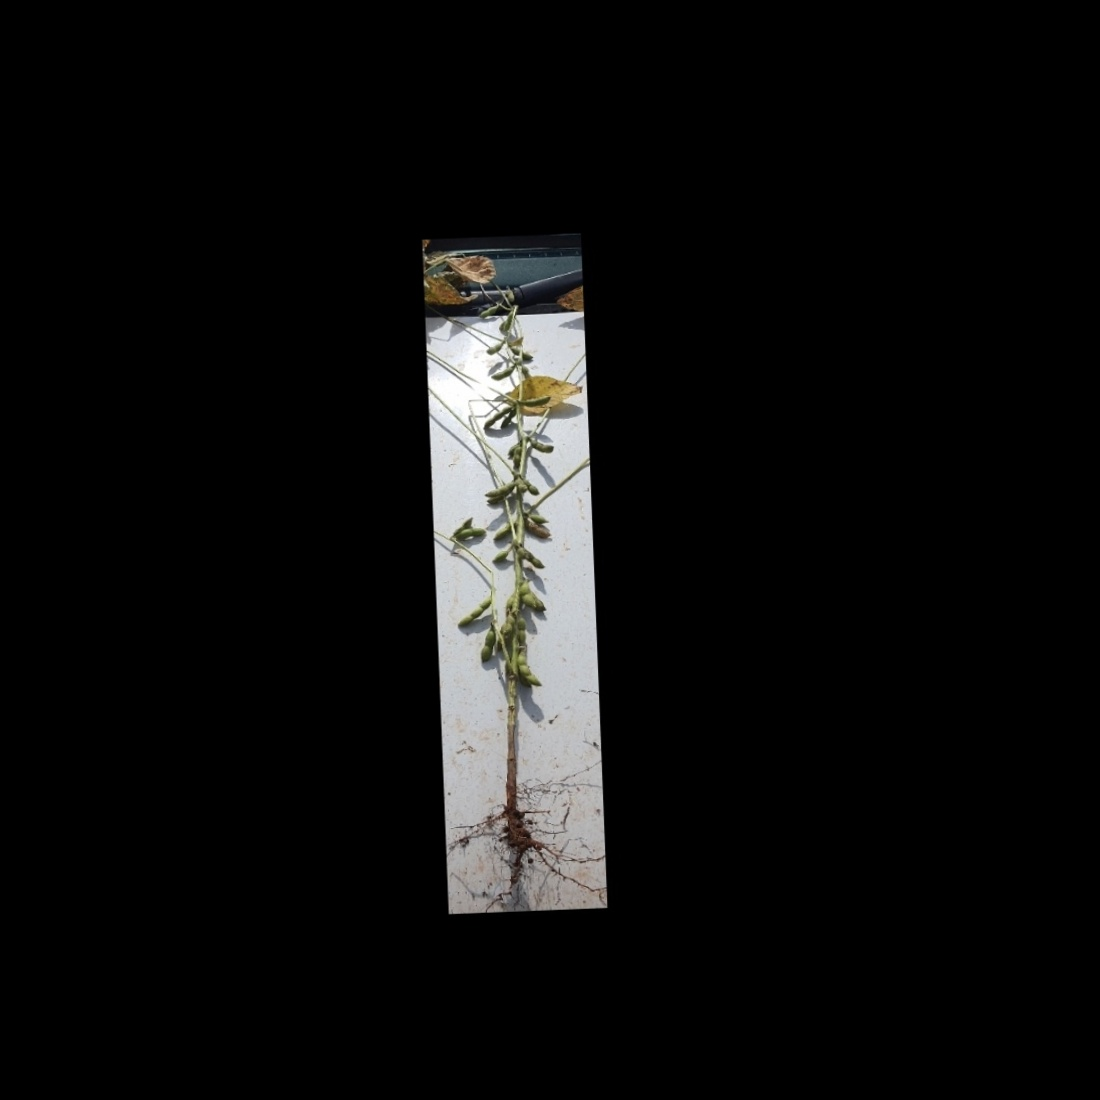pod: (455, 596, 493, 628), (515, 651, 543, 688), (477, 627, 498, 664), (482, 405, 509, 431), (455, 525, 488, 541), (483, 482, 515, 498), (488, 363, 516, 381), (491, 522, 512, 544), (518, 394, 552, 407), (528, 439, 556, 454), (491, 546, 512, 564), (477, 303, 500, 319), (510, 445, 523, 470), (516, 617, 527, 646), (484, 342, 504, 356), (504, 286, 518, 303), (502, 313, 513, 332)
soy: (438, 278, 593, 874)
